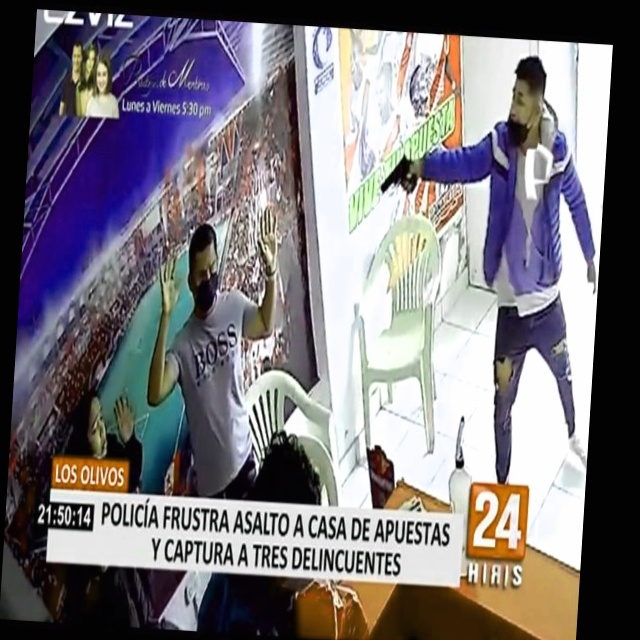gun: (372, 136, 425, 218)
